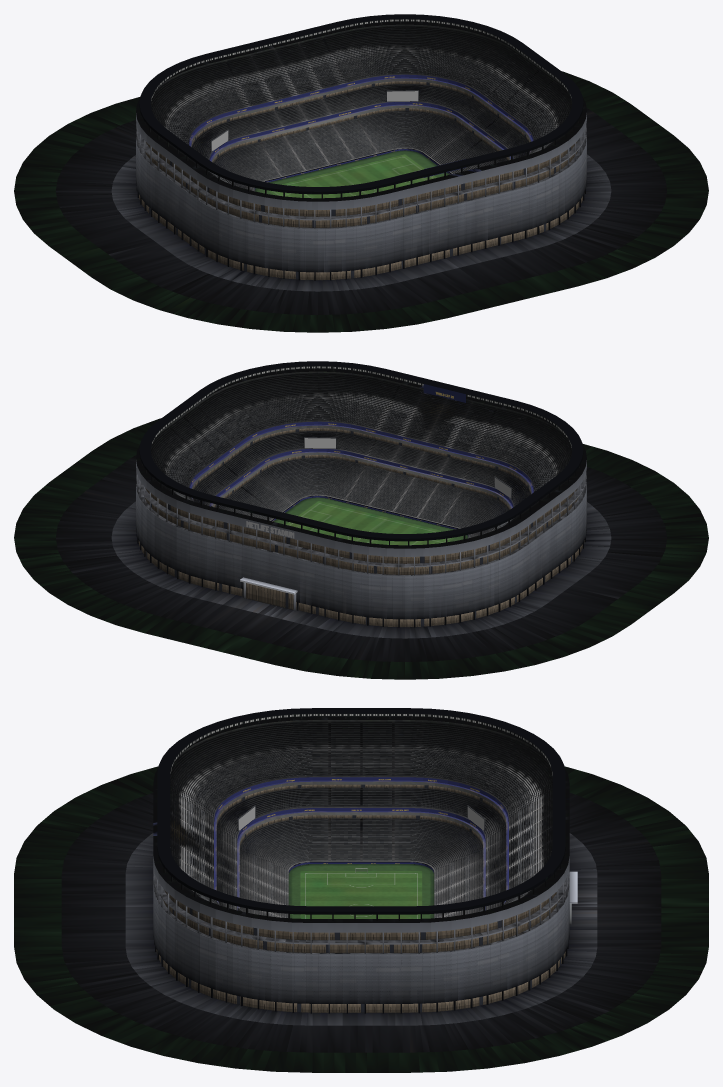
Rendered from metlife.glb.
The picture shows the model from 3 angles, top to bottom: view 1: azimuth 30°, elevation 25°; view 2: azimuth 150°, elevation 25°; view 3: azimuth 270°, elevation 25°; orthographic projection. The views are drawn at different scales.
Parts seen in each view (by area): view 1: MetLife, StadiumScreens; view 2: MetLife, StadiumScreens; view 3: MetLife.
Part boxes in pixels (x1,y1,x2,y2): MetLife: [14, 14, 708, 332]; StadiumScreens: [211, 91, 418, 150]; MetLife: [14, 361, 708, 679]; StadiumScreens: [304, 438, 511, 497]; MetLife: [14, 708, 708, 1072].
Size of the model in its own units: 386 by 55.65 by 349.
25 materials, 7 textured.
